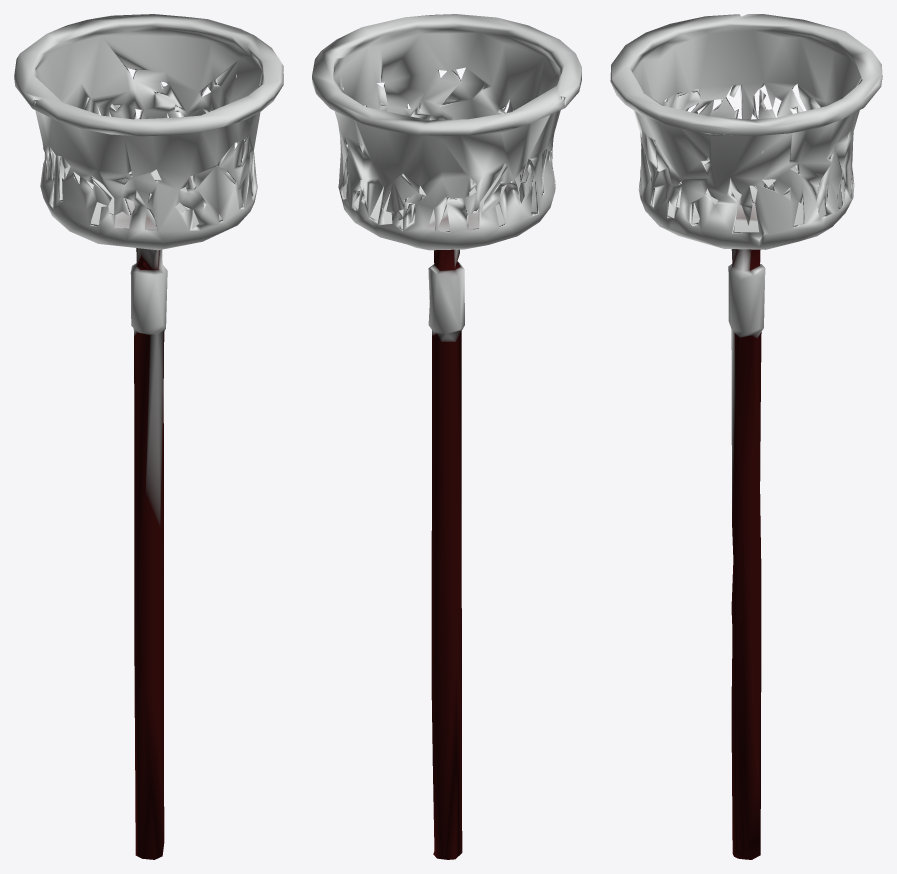
File: gen3d-butterfly-net-lod1.glb
3 renders of one model, left to right at view 1: azimuth 30°, elevation 25°; view 2: azimuth 150°, elevation 25°; view 3: azimuth 270°, elevation 25°, orthographic.
Visible parts, largest first — view 1: part_0; view 2: part_0; view 3: part_0.
Boxes of the visible parts, bbox=[...] form: part_0: bbox=[14, 14, 283, 859]; part_0: bbox=[312, 14, 581, 859]; part_0: bbox=[610, 14, 882, 859].
Bounding box in the file's own units: 0.3123 × 0.9998 × 0.3141.
